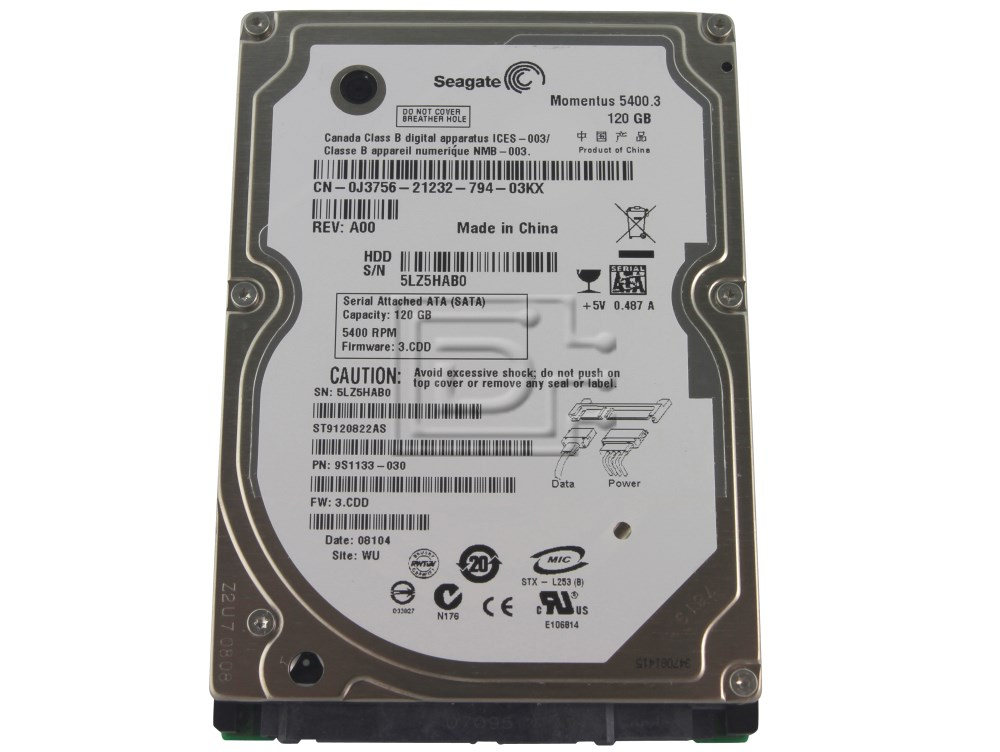seagate-hdd-240gb: (190, 9, 757, 742)
